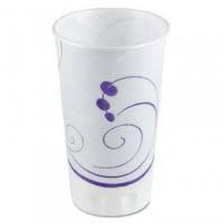paper_cup: (47, 1, 173, 222)
